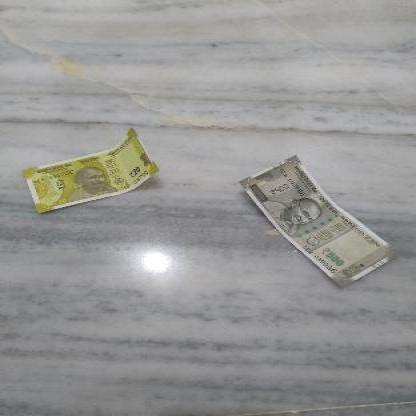New20Front: (25, 128, 163, 215)
New500Front: (243, 155, 404, 290)
